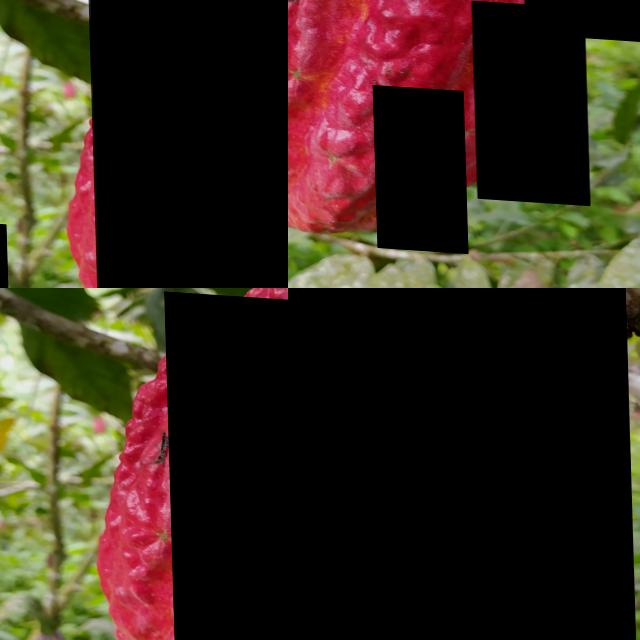Fitoftora: (86, 0, 288, 288)
Sana: (288, 288, 633, 640), (163, 288, 288, 640), (470, 0, 587, 198), (371, 81, 465, 248)
